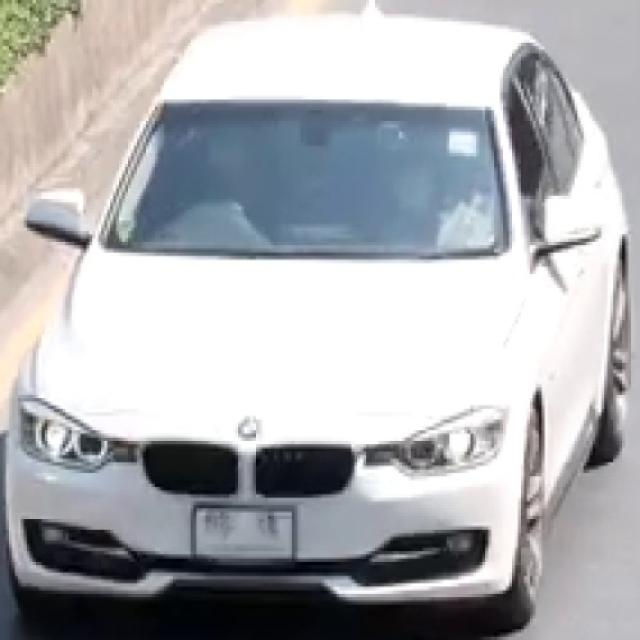plate: (192, 504, 298, 563)
